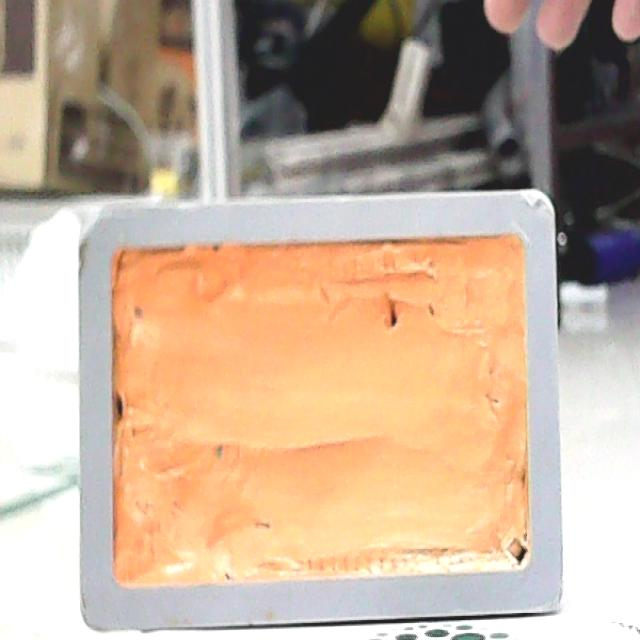block: (76, 182, 565, 640)
